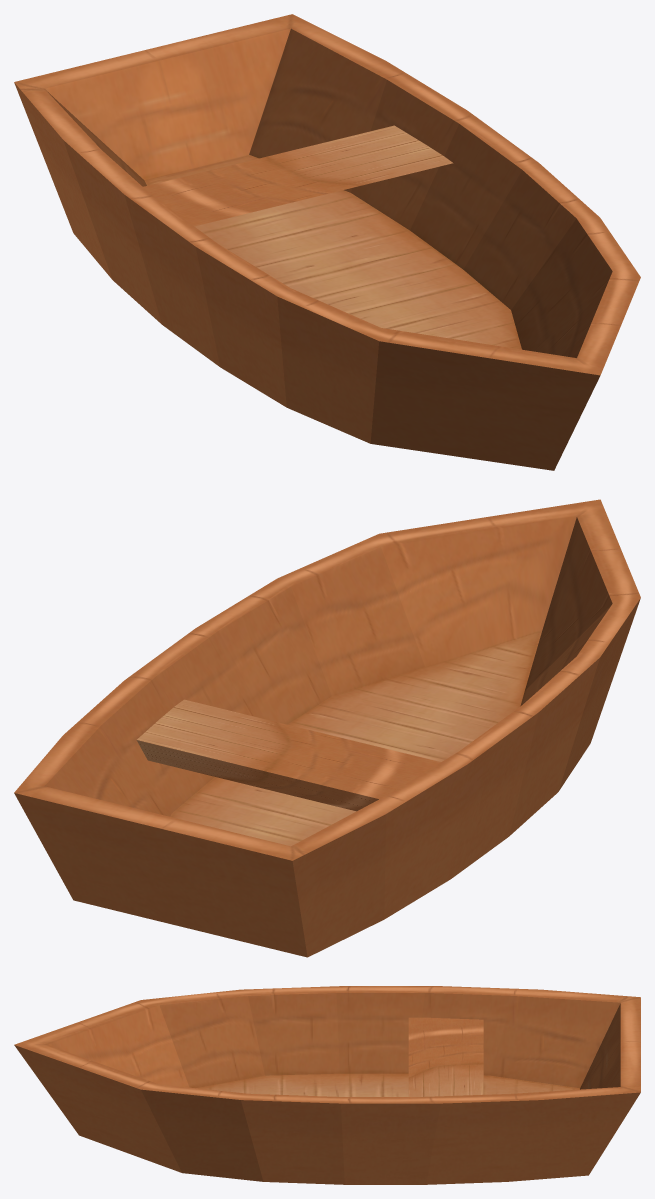
File: boat (1).fbx
3 views of the same model, one above another, from view 1: azimuth 30°, elevation 25°; view 2: azimuth 150°, elevation 25°; view 3: azimuth 270°, elevation 25° (orthographic). The views are drawn at different scales.
Visible parts, largest first — view 1: SPW_Medieval_Boat, pCube1; view 2: SPW_Medieval_Boat, pCube1; view 3: SPW_Medieval_Boat, pCube1.
Boxes of the visible parts, left/top/right/bottom form: SPW_Medieval_Boat: left=14, top=14, right=640, bottom=470; pCube1: left=143, top=125, right=453, bottom=226; SPW_Medieval_Boat: left=14, top=499, right=640, bottom=957; pCube1: left=136, top=699, right=440, bottom=811; SPW_Medieval_Boat: left=14, top=986, right=640, bottom=1184; pCube1: left=408, top=1017, right=483, bottom=1096.
Bounding box in the file's own units: 222 × 80 × 501.
Materials: 1 (1 with a texture image).
